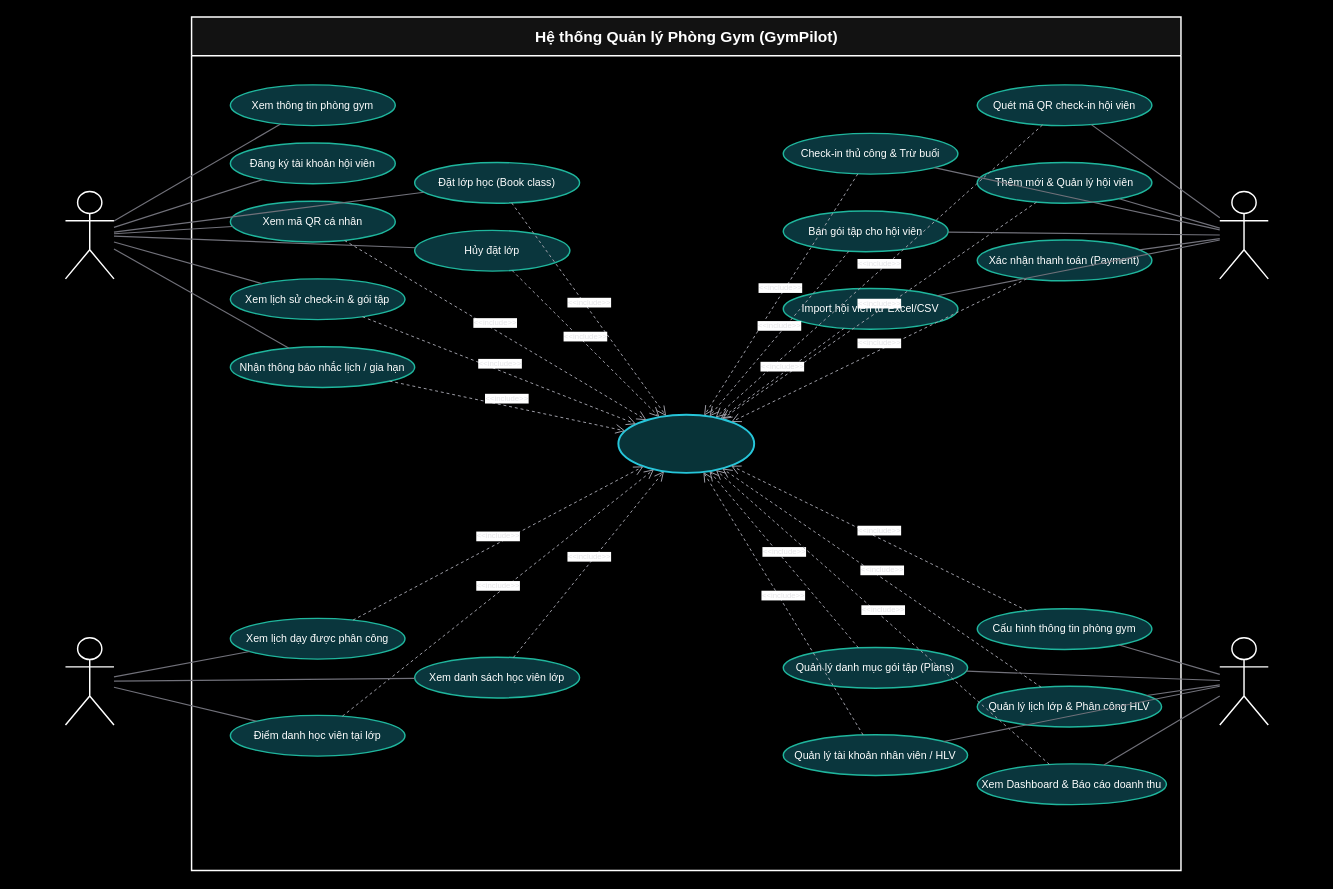
The diagram is 1333 pixels wide and 889 high, and some of its shapes have lost their labels. Here are the shapes that lost their labels. From the top down, the centre of each, then its label:
At (x=89, y=234): "Hội viên\n(Member)".
At (x=1244, y=234): "Nhân viên / Lễ tân\n(Staff)".
At (x=686, y=443): "Đăng nhập".
At (x=89, y=681): "Huấn luyện viên\n(Trainer)".
At (x=1244, y=681): "Chủ phòng gym\n(Owner)".
